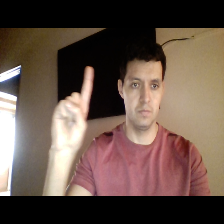2T: (45, 59, 97, 157)
